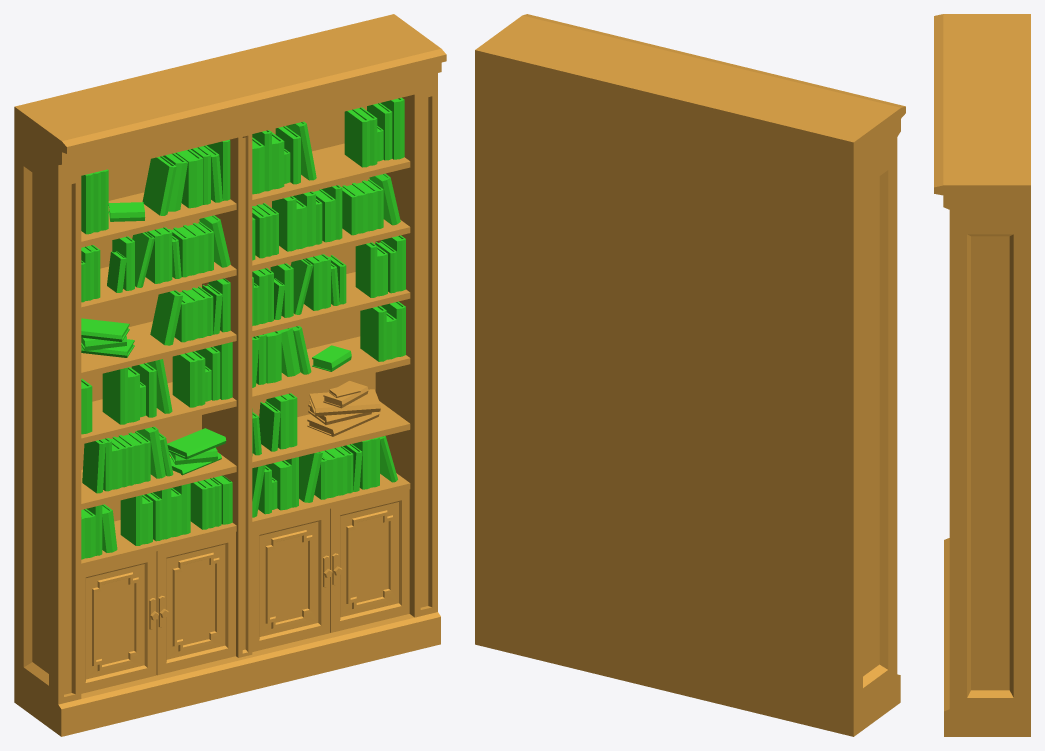
File: Sm_Bookcase_Modular_Cabinet_Filled_2m_B.fbx
The picture shows the model from 3 angles, left to right: view 1: azimuth 30°, elevation 25°; view 2: azimuth 150°, elevation 25°; view 3: azimuth 270°, elevation 25°; orthographic projection. The views are drawn at different scales.
Parts seen in each view (by area): view 1: library-modular-cabinet-filled-2m-b-base, library-modular-cabinet-filled-2m-b-door-r-b, library-modular-cabinet-filled-2m-b-door-r-a, library-modular-cabinet-filled-2m-b-door-l-b, library-modular-cabinet-filled-2m-b-door-l-a; view 2: library-modular-cabinet-filled-2m-b-base; view 3: library-modular-cabinet-filled-2m-b-base.
Part boxes in pixels (bbox=[...]): library-modular-cabinet-filled-2m-b-base: bbox=[14, 14, 446, 736]; library-modular-cabinet-filled-2m-b-door-r-b: bbox=[330, 489, 409, 632]; library-modular-cabinet-filled-2m-b-door-r-a: bbox=[156, 532, 235, 675]; library-modular-cabinet-filled-2m-b-door-l-b: bbox=[252, 509, 332, 651]; library-modular-cabinet-filled-2m-b-door-l-a: bbox=[81, 551, 158, 693]; library-modular-cabinet-filled-2m-b-base: bbox=[475, 14, 905, 736]; library-modular-cabinet-filled-2m-b-base: bbox=[934, 14, 1030, 736].
Bounding box in the file's own units: 2 × 3 × 0.4778.
